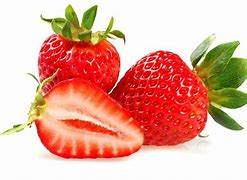Fresa: (107, 48, 214, 148), (34, 77, 147, 165), (37, 25, 120, 110)
